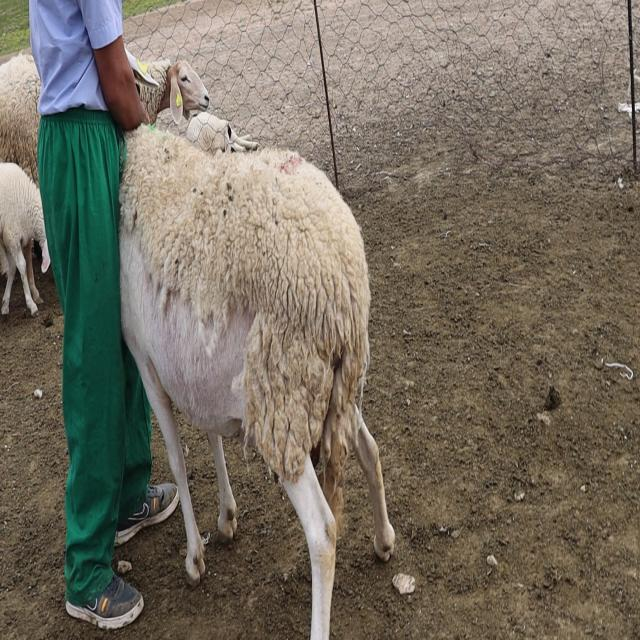Score_4: (119, 126, 395, 639)
